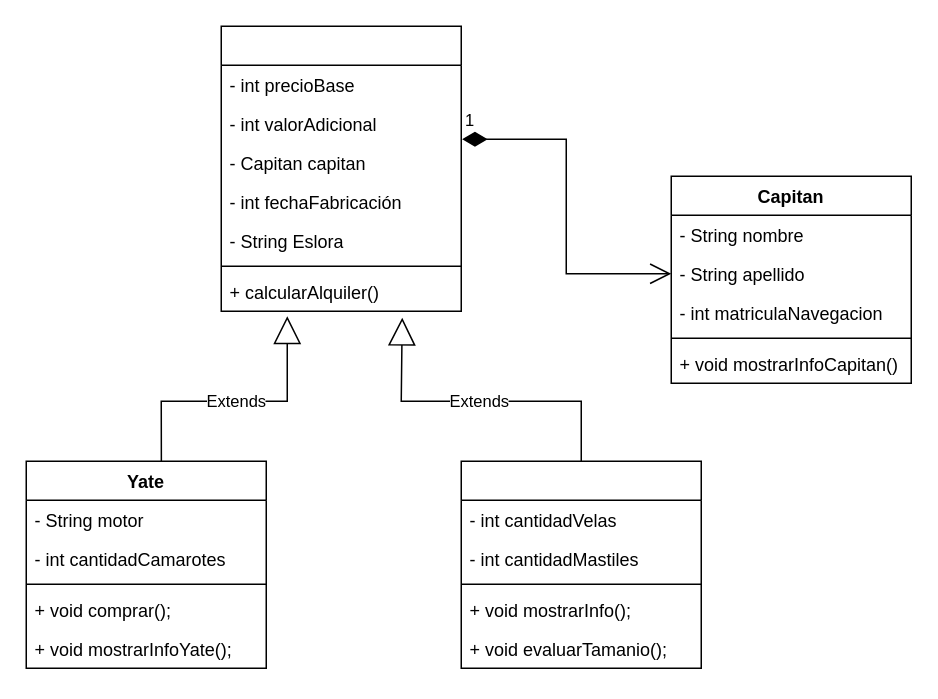
Image size: 938x699. Some labels were removed from this diagram. Here are the shapes that lost their labels. From the top down, the box of each, then its label:
(220, 25, 461, 311): Embarcacion
(460, 460, 701, 668): Velero
